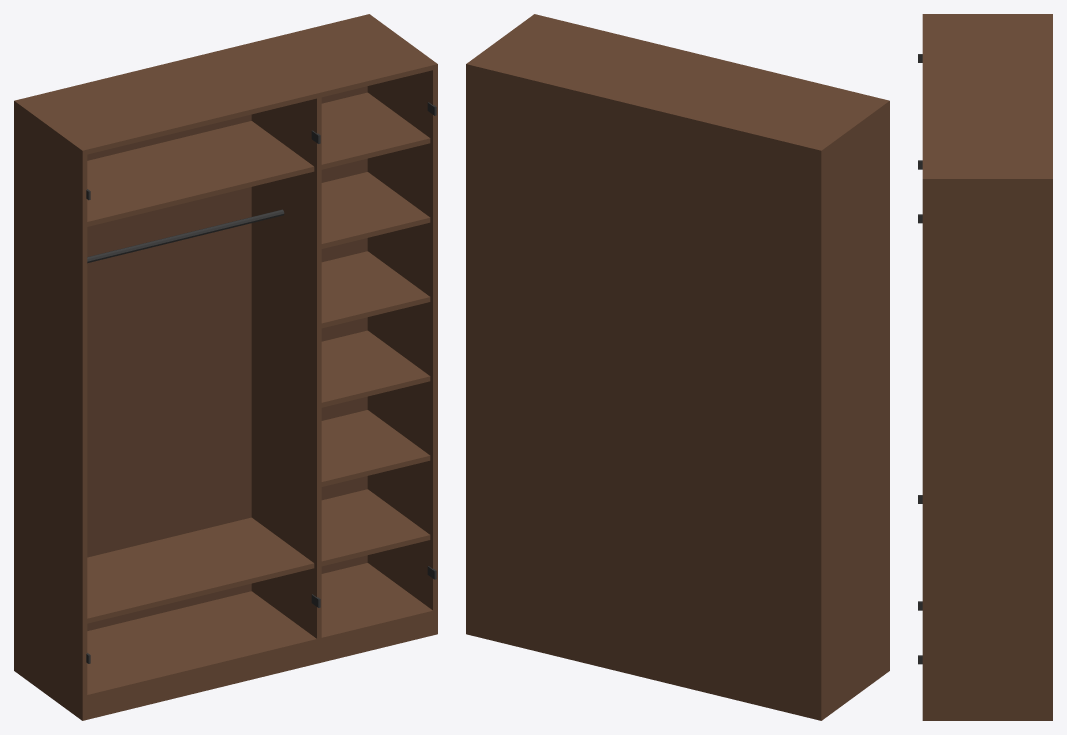
Rendered from Wardrobe5_C3.fbx.
3 renders of one model, left to right at view 1: azimuth 30°, elevation 25°; view 2: azimuth 150°, elevation 25°; view 3: azimuth 270°, elevation 25°, orthographic. The views are drawn at different scales.
Visible parts, largest first — view 1: Wardrobe5_C3; view 2: Wardrobe5_C3; view 3: Wardrobe5_C3.
Part boxes in pixels (<box>): Wardrobe5_C3: <box>14,14,437,720</box>; Wardrobe5_C3: <box>466,14,889,720</box>; Wardrobe5_C3: <box>918,14,1052,720</box>.
Size of the model in its own units: 150 by 230 by 51.79.
